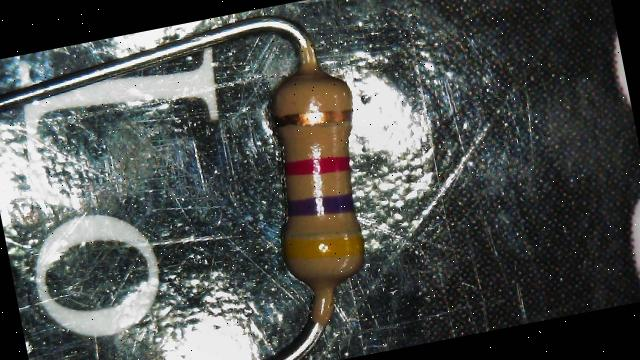gold: (272, 103, 354, 134)
red: (284, 151, 350, 180)
resistor: (245, 51, 390, 299)
violet: (288, 190, 354, 222)
yellow: (282, 226, 362, 266)
